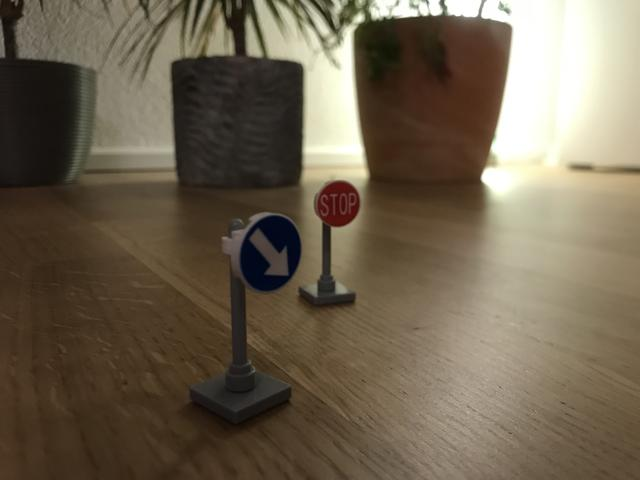rechts halten: (240, 213, 303, 291)
stop: (315, 179, 361, 229)
